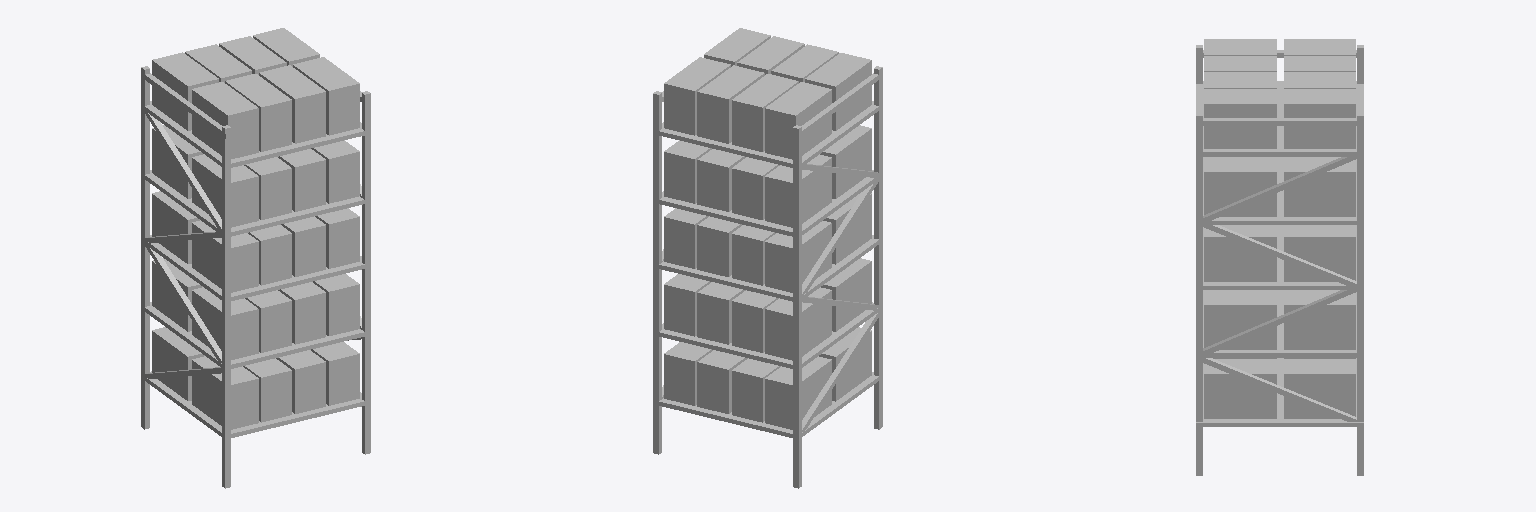
The model's file is container2.obj.
3 renders of one model, left to right at view 1: azimuth 30°, elevation 25°; view 2: azimuth 150°, elevation 25°; view 3: azimuth 270°, elevation 25°, orthographic.
Parts seen in each view (by area): view 1: 立方体.3, 立方体; view 2: 立方体.3, 立方体; view 3: 立方体.3, 立方体.
Boxes of the visible parts, x1,y1,x2,y2 form: 立方体.3: [152, 28, 359, 429]; 立方体: [141, 66, 370, 488]; 立方体.3: [664, 28, 871, 429]; 立方体: [653, 66, 882, 488]; 立方体.3: [1204, 39, 1355, 418]; 立方体: [1196, 45, 1363, 475].
Size of the model in its own units: 27.69 by 66.99 by 27.72.